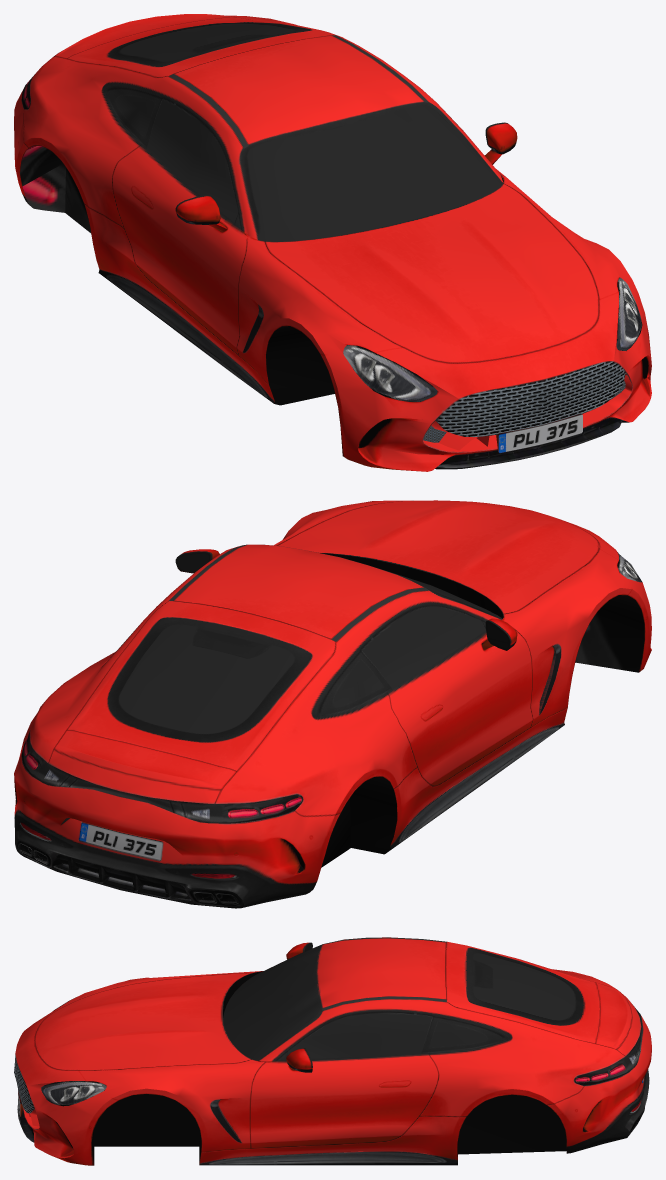
File: car 88.fbx
3 views of the same model, one above another, from view 1: azimuth 30°, elevation 25°; view 2: azimuth 150°, elevation 25°; view 3: azimuth 270°, elevation 25° (orthographic). The views are drawn at different scales.
Visible parts, largest first — view 1: car; view 2: car; view 3: car.
Part boxes in pixels (x1=…): car: x1=14, y1=14, x2=651, y2=471; car: x1=14, y1=500, x2=651, y2=908; car: x1=14, y1=937, x2=651, y2=1165.
Bounding box in the file's own units: 407 × 241 × 909.
Materials: 1 (1 with a texture image).
